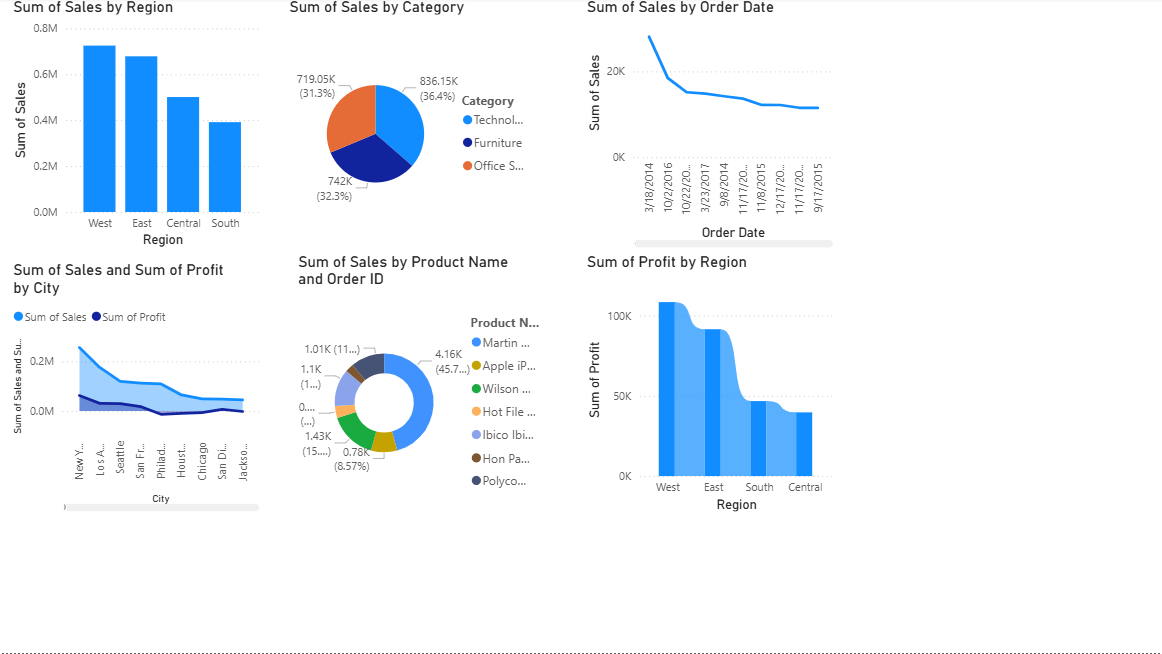

The page's visual inventory and layout, read from the dashboard file:
{"tool":"powerbi","page":{"name":"Page 1","canvas":[1280,720],"ordinal":0},"visuals":[{"type":"clusteredColumnChart","fields":{"Y":["Sum(Sample - Superstore.Sales)"],"Category":["Sample - Superstore.Region"]},"box":[10,0,280,280],"z":0},{"type":"pieChart","fields":{"Y":["Sum(Sample - Superstore.Sales)"],"Category":["Sample - Superstore.Category"]},"box":[312.5,0,280,280],"z":1},{"type":"lineChart","fields":{"Category":["Sample - Superstore.Order Date"],"Y":["Sum(Sample - Superstore.Sales)"]},"box":[640,0,280,280],"z":2},{"type":"areaChart","fields":{"Category":["Sample - Superstore.City"],"Y":["Sum(Sample - Superstore.Sales)","Sum(Sample - Superstore.Profit)"]},"box":[10,290,280,280],"z":3},{"type":"donutChart","fields":{"Category":["Sample - Superstore.Product Name"],"Series":["Sample - Superstore.Order ID"],"Y":["Sum(Sample - Superstore.Sales)"]},"box":[322.5,280,280,290],"z":4},{"type":"ribbonChart","fields":{"Category":["Sample - Superstore.Region"],"Y":["Sum(Sample - Superstore.Profit)"]},"box":[640,280,280,290],"z":5}]}

Visuals, with their boxes in screenshot pixels (x1, y1, x2, y2), scaled from the page's 1280x720 canvas onto the 1162x654 screenshot:
clusteredColumnChart - Sum(Sample - Superstore.Sales) x Sample - Superstore.Region: box(9, 0, 263, 254)
pieChart - Sum(Sample - Superstore.Sales) x Sample - Superstore.Category: box(284, 0, 538, 254)
lineChart - Sample - Superstore.Order Date x Sum(Sample - Superstore.Sales): box(581, 0, 835, 254)
areaChart - Sample - Superstore.City x Sum(Sample - Superstore.Sales): box(9, 263, 263, 518)
donutChart - Sample - Superstore.Product Name x Sample - Superstore.Order ID: box(293, 254, 547, 518)
ribbonChart - Sample - Superstore.Region x Sum(Sample - Superstore.Profit): box(581, 254, 835, 518)
